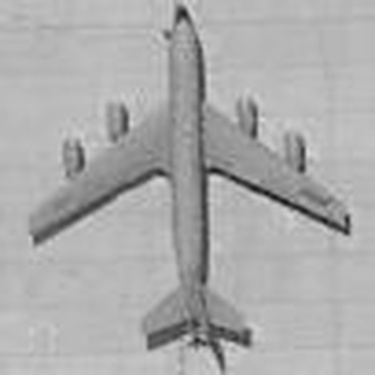airplane: (8, 2, 358, 364)
